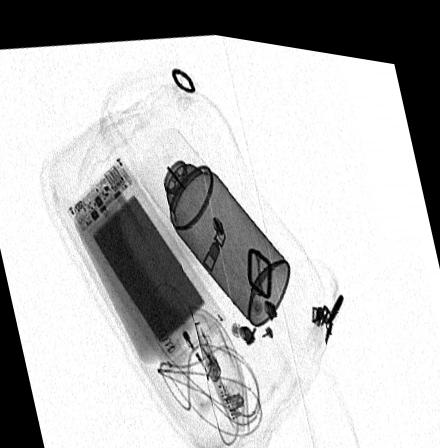Lighter: (166, 293, 221, 376)
Powerbank: (65, 151, 225, 368)
Sprayer: (139, 122, 290, 319)
